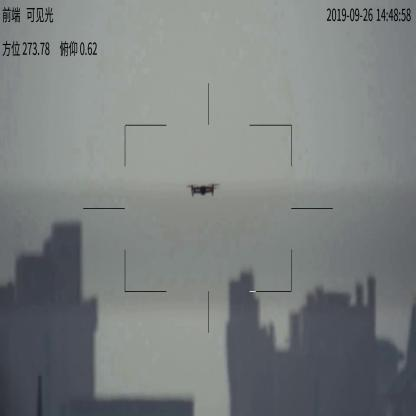uav: (184, 182, 222, 198)
